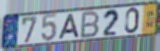0: (124, 7, 141, 35)
2: (100, 7, 122, 39)
5: (40, 12, 58, 43)
7: (21, 16, 38, 45)
A: (58, 13, 81, 40)
B: (79, 9, 102, 40)
